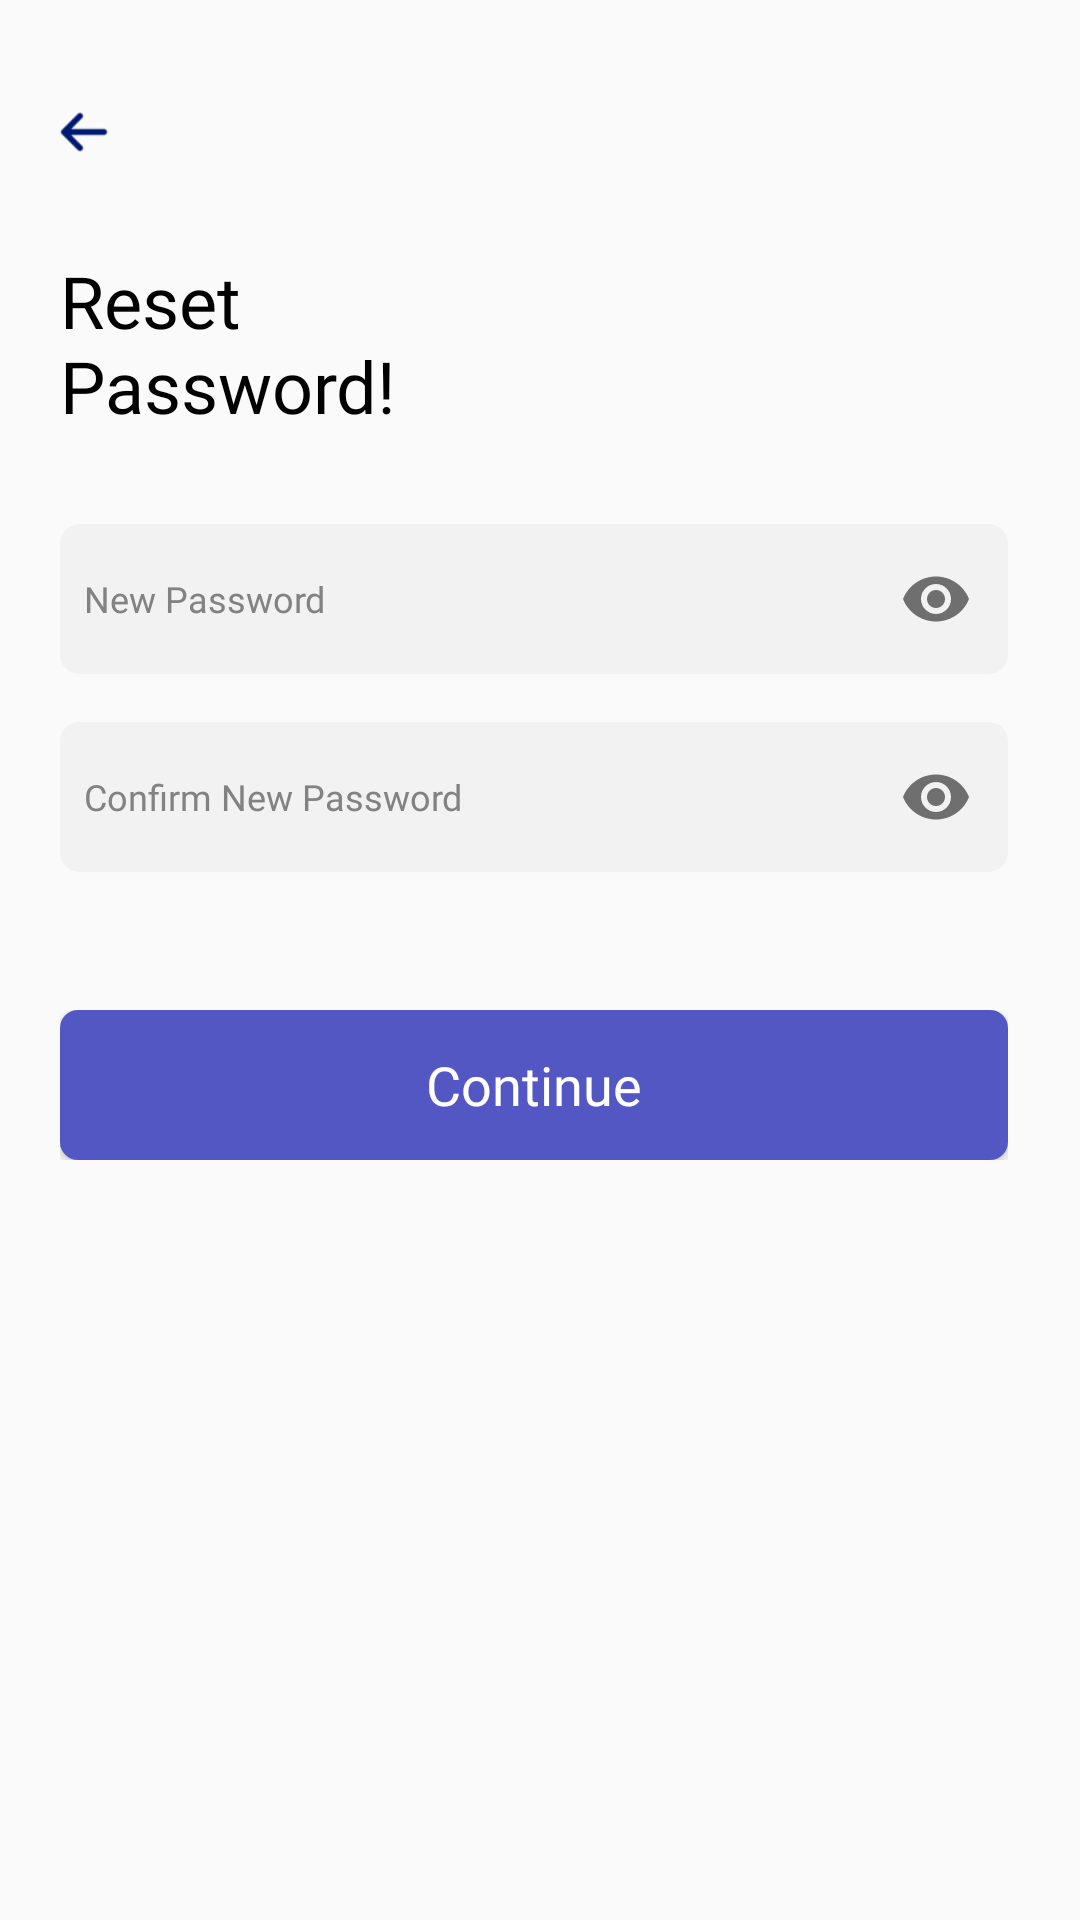

Where to tap for icons on this 1080 x 1920 app screen, as point (x, y):
back: point (84, 132)
